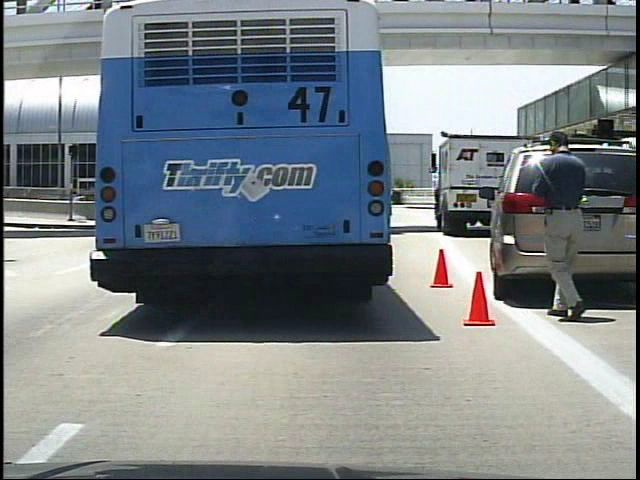person: (529, 120, 590, 321)
